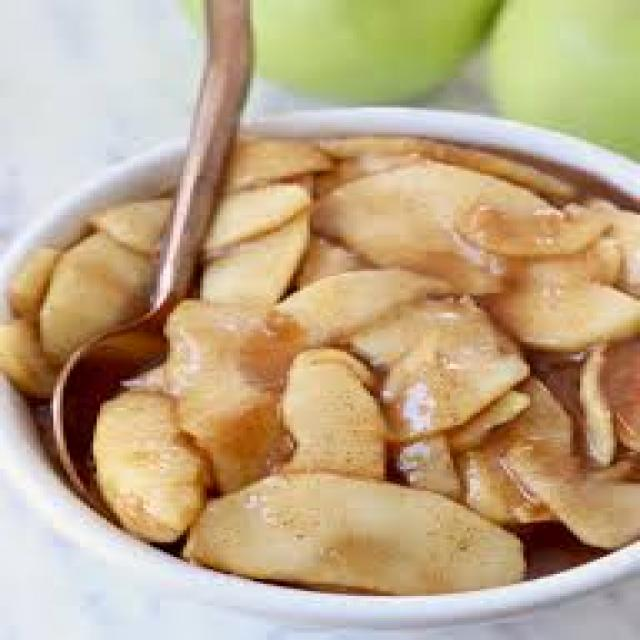Apple: (182, 472, 526, 600), (92, 385, 213, 546), (278, 354, 392, 490), (495, 266, 640, 356), (43, 230, 157, 338), (207, 188, 315, 253), (222, 218, 292, 308)
